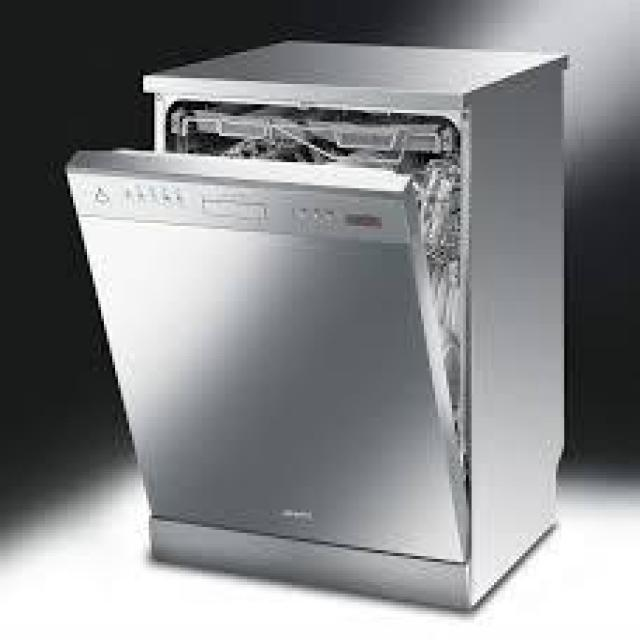dishwasher: (56, 32, 576, 617)
